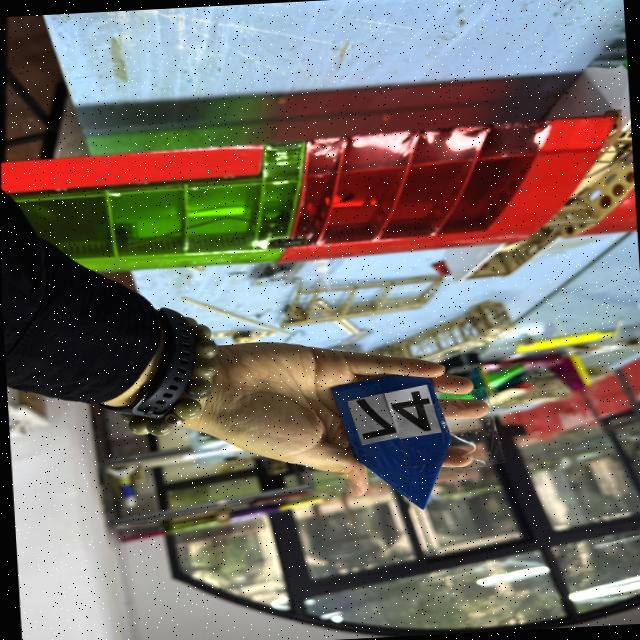board: (330, 364, 455, 512)
